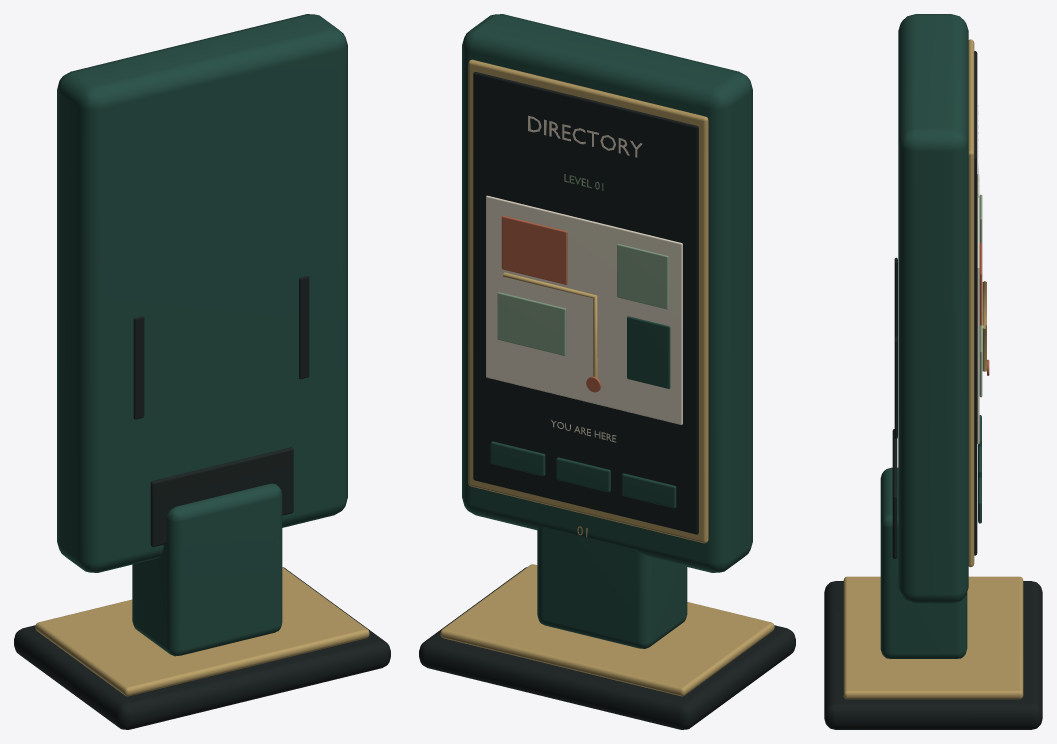
The model's file is mall-directory-kiosk.glb.
3 renders of one model, left to right at view 1: azimuth 30°, elevation 25°; view 2: azimuth 150°, elevation 25°; view 3: azimuth 270°, elevation 25°, orthographic. The views are drawn at different scales.
Visible parts, largest first — view 1: mall-directory-kiosk; view 2: mall-directory-kiosk; view 3: mall-directory-kiosk.
Part boxes in pixels (box(x1,y1,x2,y2)): mall-directory-kiosk: box(14, 14, 390, 729); mall-directory-kiosk: box(419, 14, 795, 729); mall-directory-kiosk: box(824, 14, 1042, 729).
Bounding box in the file's own units: 0.96 × 2.05 × 0.68.
